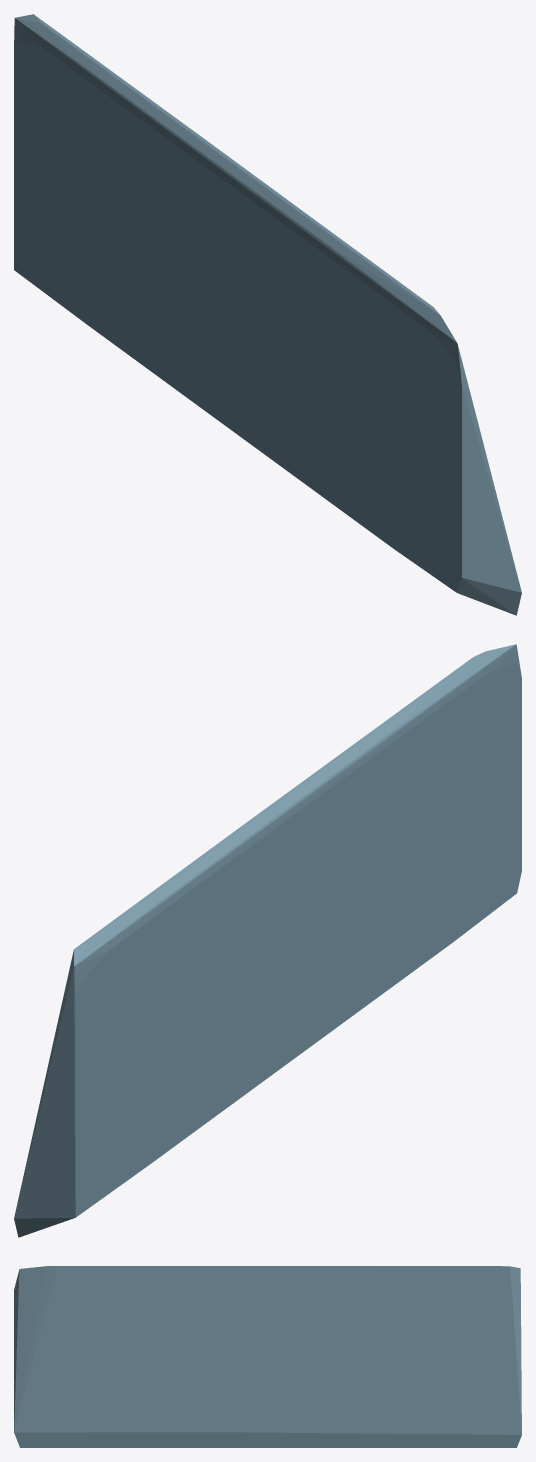
File: 3D1_reconstructed.glb
3 views of the same model, one above another, from view 1: azimuth 30°, elevation 25°; view 2: azimuth 150°, elevation 25°; view 3: azimuth 270°, elevation 25° (orthographic). The views are drawn at different scales.
Visible parts, largest first — view 1: geometry_0; view 2: geometry_0; view 3: geometry_0.
Part boxes in pixels (<box>): geometry_0: <box>14,14,521,615</box>; geometry_0: <box>14,644,521,1237</box>; geometry_0: <box>14,1266,521,1447</box>.
Size of the model in its own units: 0.0654 by 0.3062 by 0.8395.
